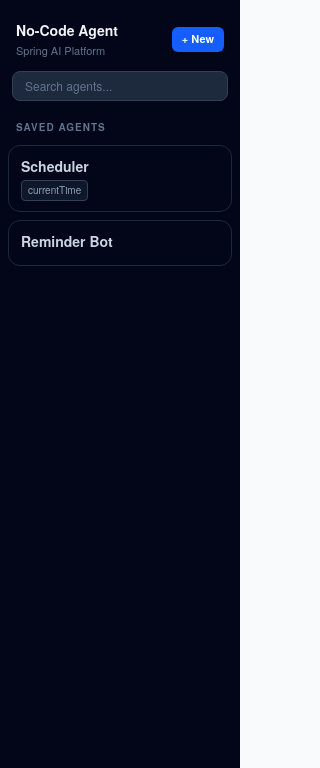
Test: filters agents by search query
This screenshot has width=320, height=768.
Type "Sched" into the field with placeholder "Search agents...".
click(120, 86); type("Sched")  # box [12,70,228,100]
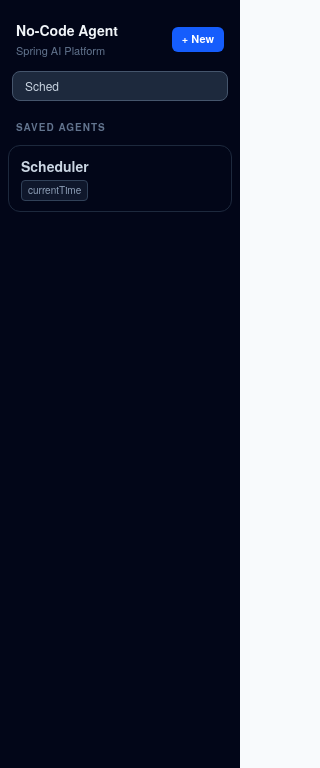
Expected: the text "Scheduler" is shown, [21,156,89,176]
Expected: the button "Reminder Bot" is gone
